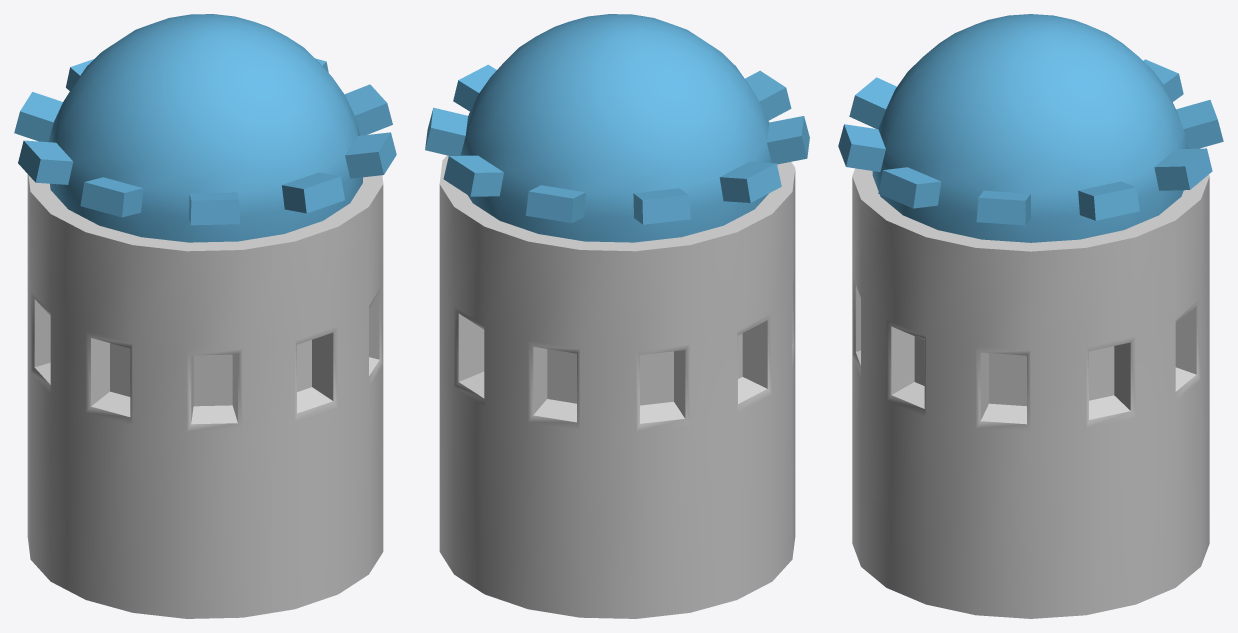
Rendered from Santorini_house1.fbx.
The picture shows the model from 3 angles, left to right: view 1: azimuth 30°, elevation 25°; view 2: azimuth 150°, elevation 25°; view 3: azimuth 270°, elevation 25°; orthographic projection.
Visible parts, largest first — view 1: pCylinder2; view 2: pCylinder2; view 3: pCylinder2.
Boxes of the visible parts, left/top/right/bottom form: pCylinder2: left=14, top=14, right=396, bottom=618; pCylinder2: left=425, top=14, right=809, bottom=618; pCylinder2: left=838, top=14, right=1223, bottom=618.
Size of the model in its own units: 15.42 by 22.71 by 15.42.
